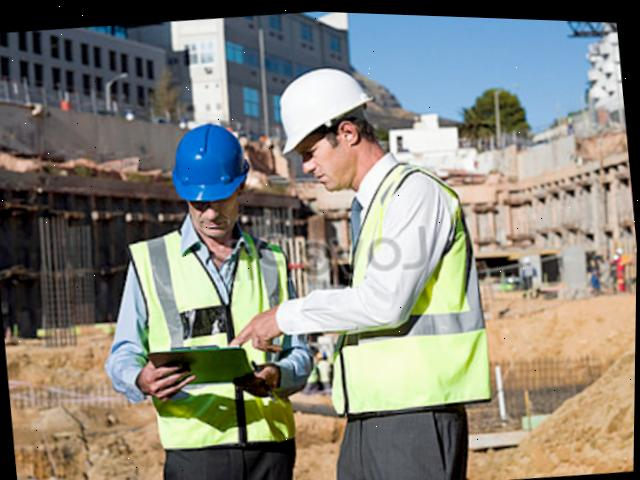helmet: (265, 50, 385, 158), (157, 110, 261, 212)
vest: (305, 143, 500, 407), (123, 223, 309, 450)
